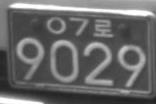0: (49, 38, 79, 84), (46, 15, 67, 34)
2: (84, 40, 113, 86)
7: (69, 16, 89, 36)
9: (15, 36, 44, 80), (117, 43, 145, 87)
로: (93, 18, 113, 37)
